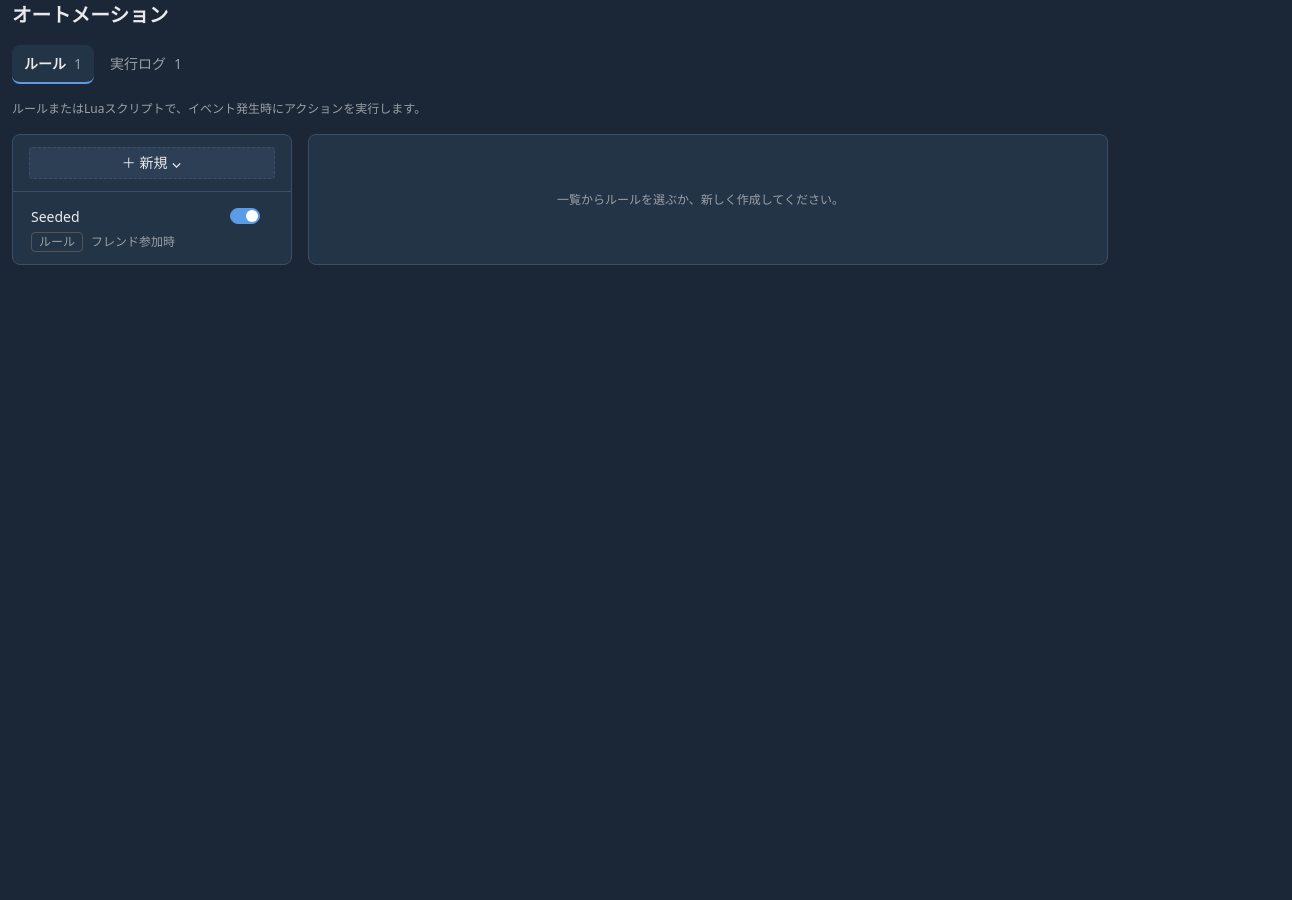
Scenario: AutomationView layout › groups the selected rule into sections and a bottom action bar
The image size is (1292, 900).
Click the button with class "rule-card__select": coordinates (55, 216) [31, 207, 175, 252]
(page scrolled)
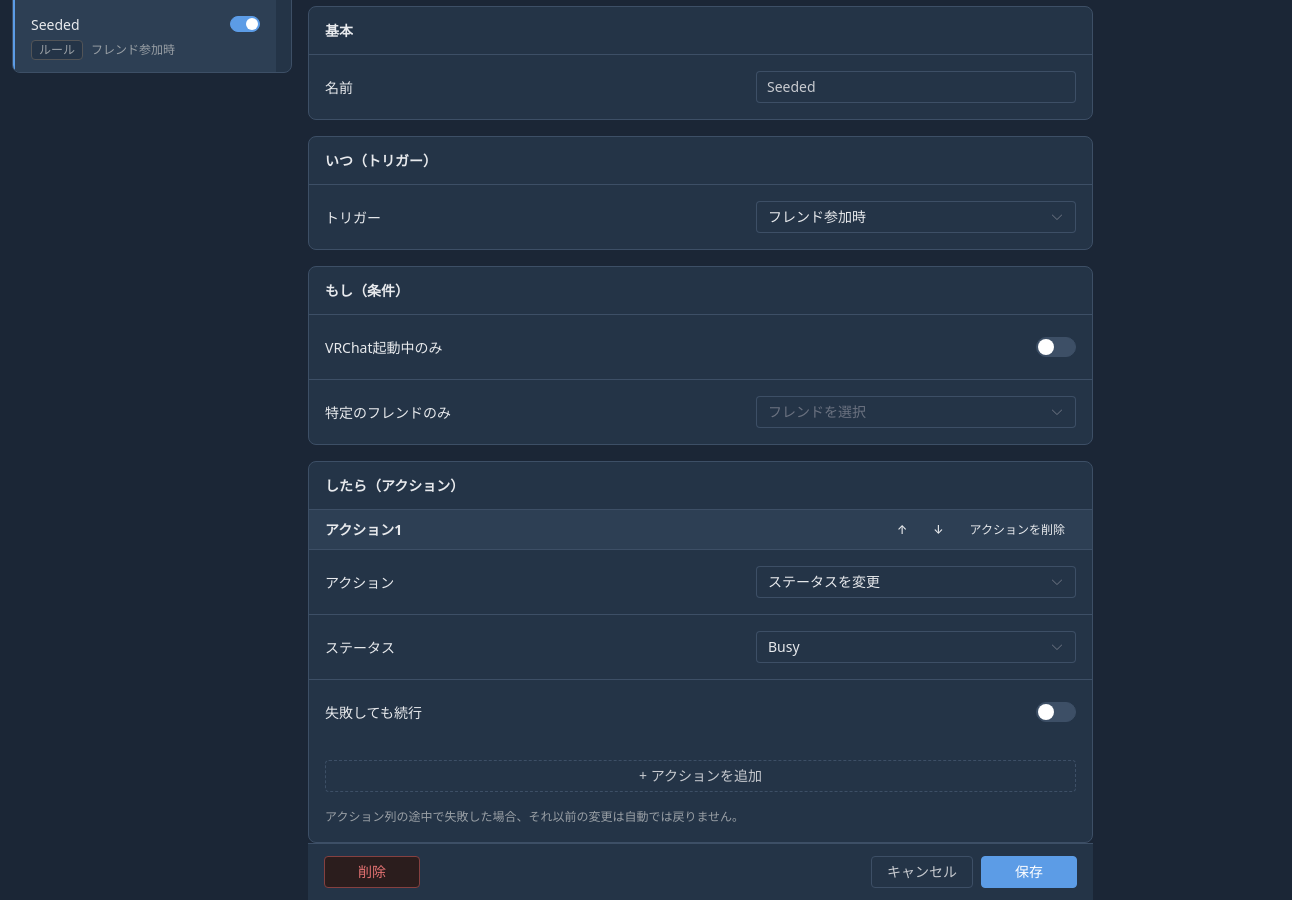
Check: the element with test id "automation-section-when" shows "いつ", box [325, 151, 437, 170]
Check: the element with test id "automation-section-if" shows "もし", box [325, 281, 409, 300]
Check: the element with test id "automation-section-then" shows "したら", box [325, 476, 464, 495]
